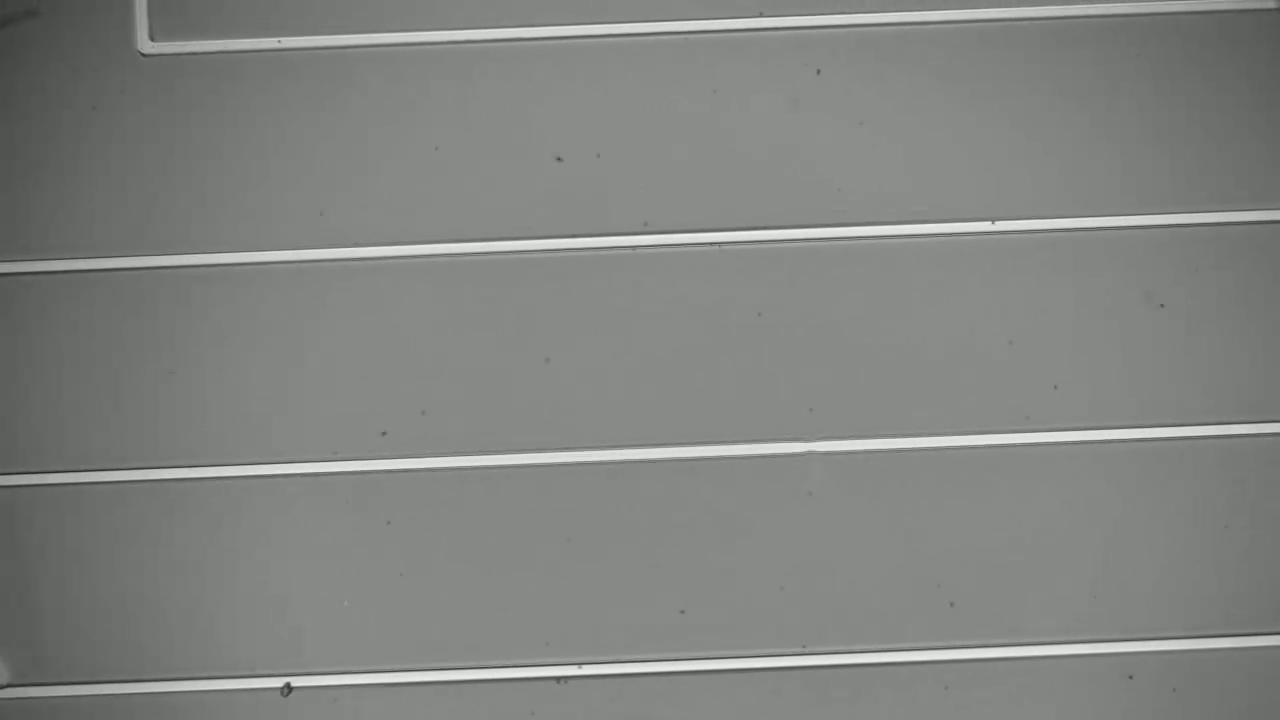stains_enbedded: (273, 664, 313, 711)
